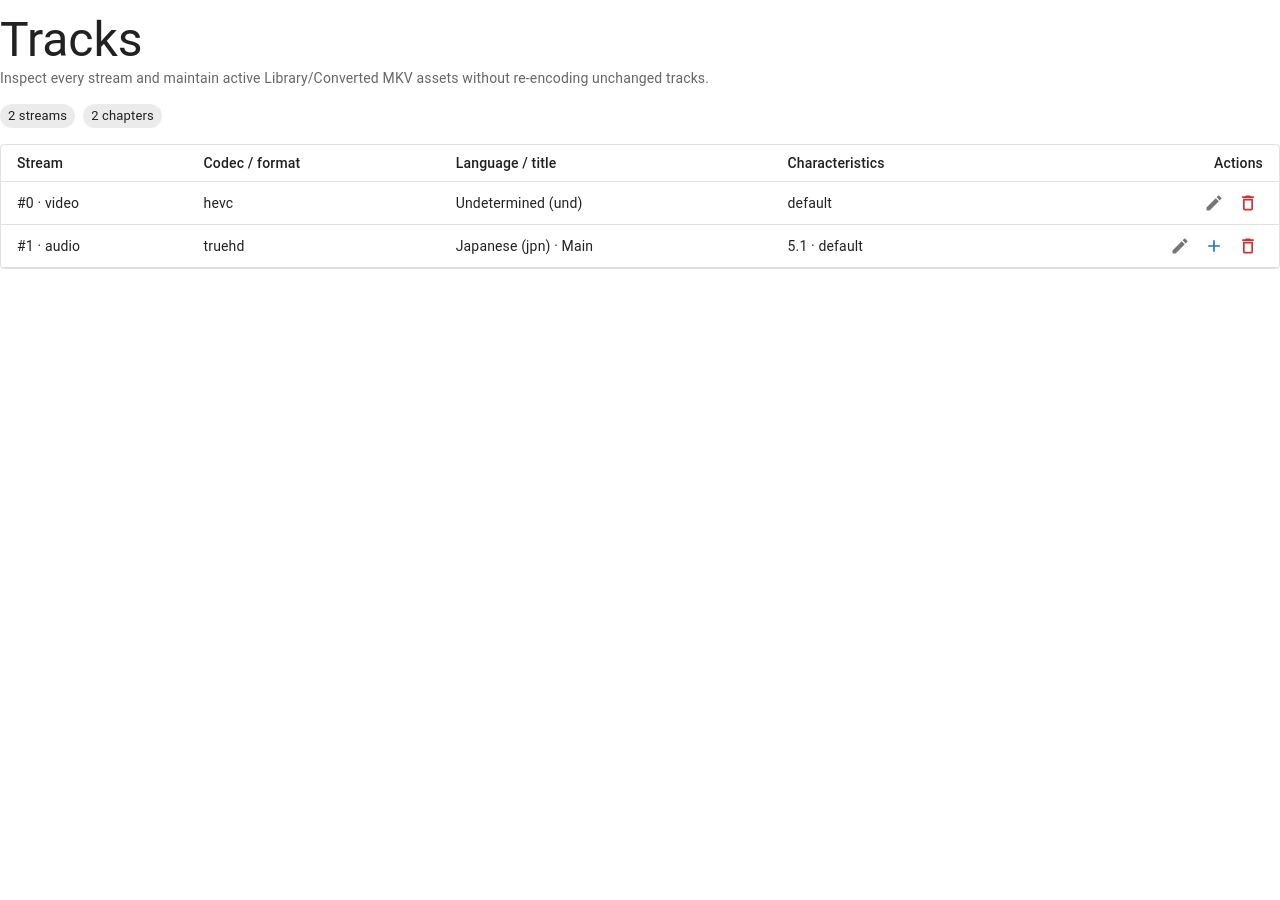
Test case: TrackMaintenancePanel › opens AAC copy controls with explicit quality choices
Click the button named "create an additional AAC audio track": x=1214, y=246 [1199,231,1229,261]
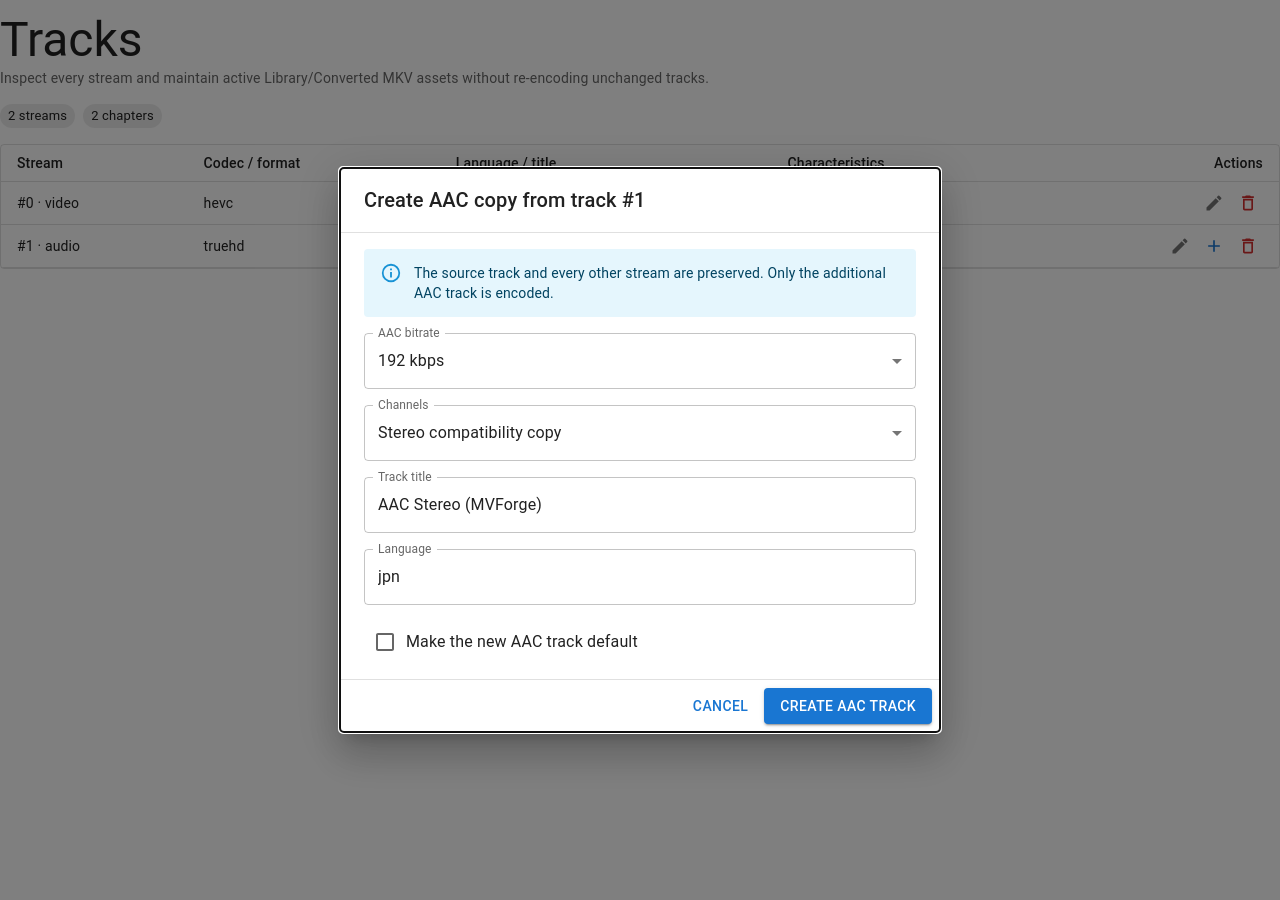
Check: the dialog "Create AAC copy" is shown, box [340,168,940,732]
Check: the dropdown named "AAC bitrate" is shown, box [378,351,444,370]
Check: the text "source track and every other stream are preserved" is shown, box [414,265,886,301]
